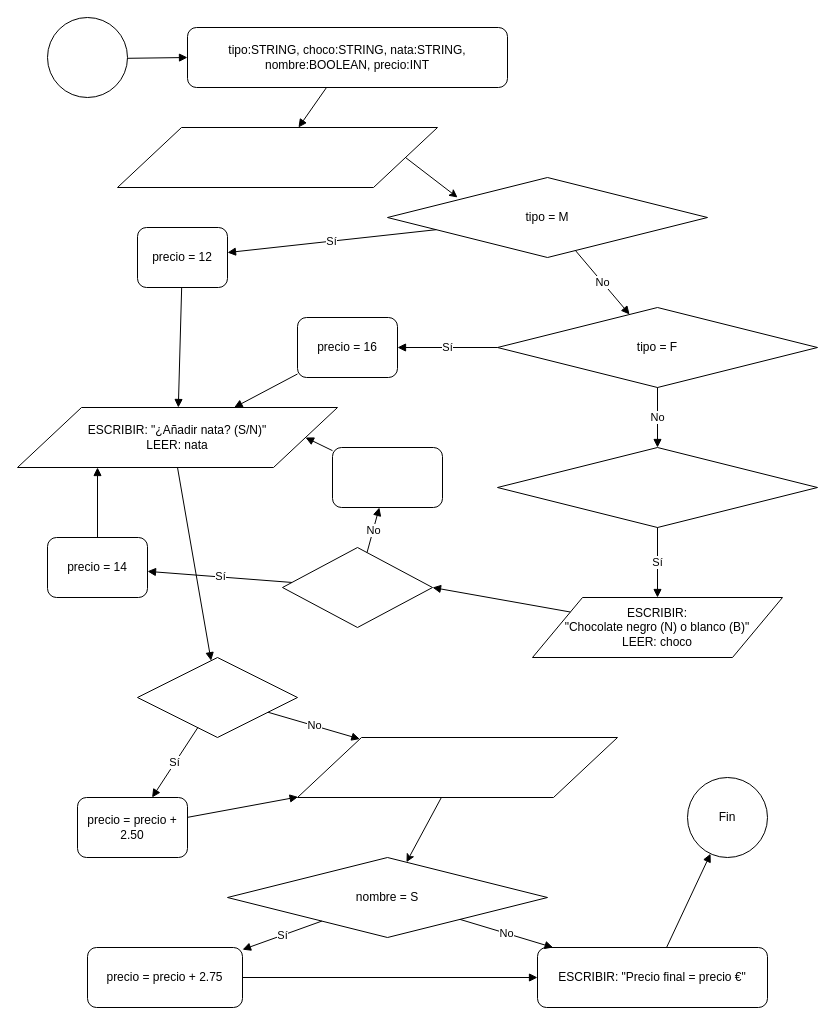
Image size: 835x1025. Some labels were removed from this diagram. The centre of each missing label's shape, as x and y in pixels:
choco = N: [357,587]
ESCRIBIR: "Tipo de tarta (M/F/C)" LEER: tipo: [277,157]
ESCRIBIR: "¿Añadir nombre? (S/N)" LEER: nombre: [457,767]
Inicio: [87,57]
nata = S: [217,697]
precio = 15: [387,477]
tipo = C: [657,487]
